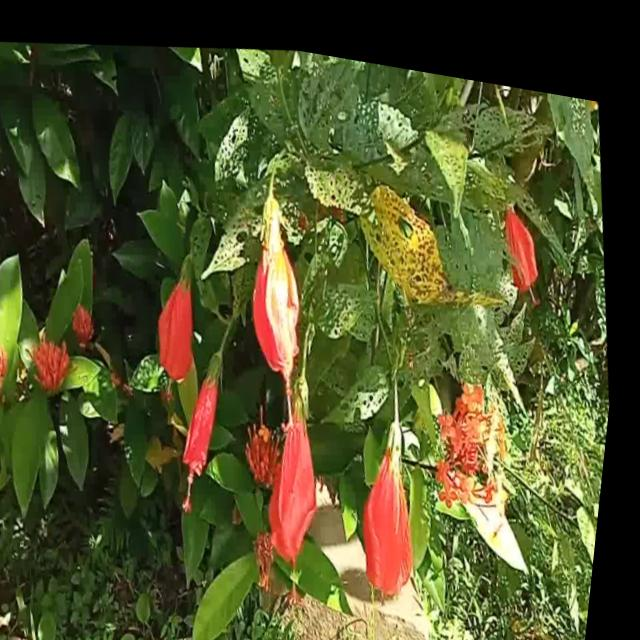Flower: (249, 355, 364, 604), (352, 390, 445, 599), (234, 176, 324, 390), (167, 332, 258, 521), (146, 241, 223, 405), (495, 181, 558, 299)
